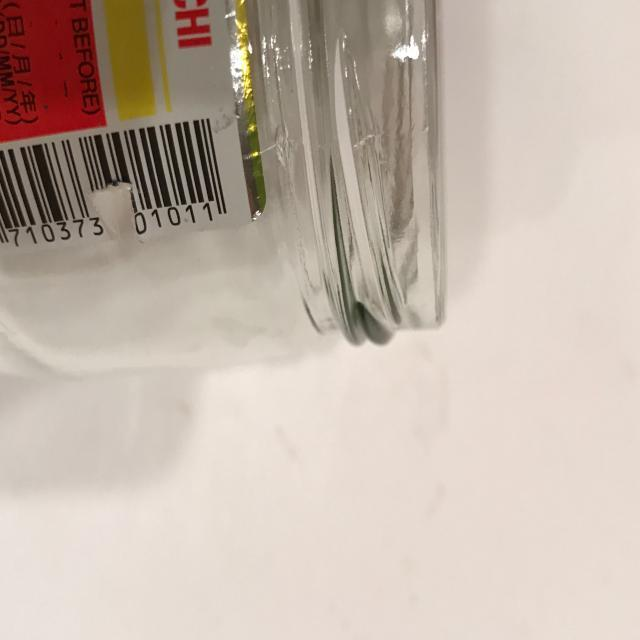glass: (1, 1, 447, 380)
